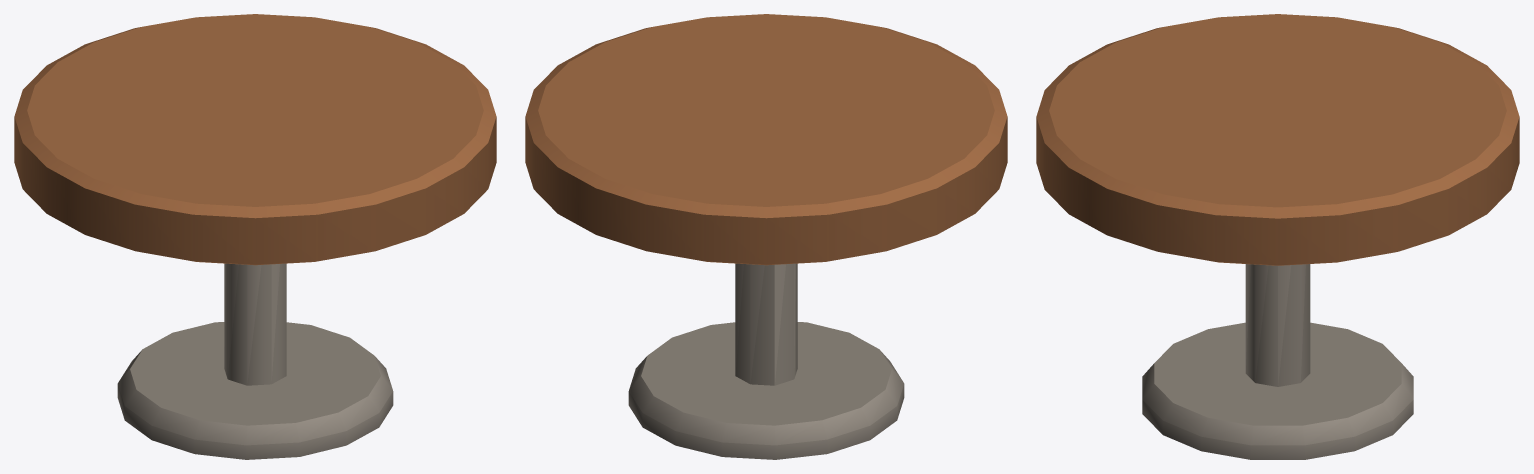
Rendered from kaykit_restaurant_table_round_a_small.glb.
The picture shows the model from 3 angles, left to right: view 1: azimuth 30°, elevation 25°; view 2: azimuth 150°, elevation 25°; view 3: azimuth 270°, elevation 25°; orthographic projection.
Parts seen in each view (by area): view 1: wood, stone; view 2: wood, stone; view 3: wood, stone.
Part boxes in pixels (x1,y1,x2,y2): wood: [14, 14, 496, 265]; stone: [117, 263, 393, 459]; wood: [525, 14, 1007, 265]; stone: [628, 263, 904, 459]; wood: [1036, 14, 1519, 265]; stone: [1142, 264, 1413, 459].
Bounding box in the file's own units: 1.5 × 1 × 1.5.
